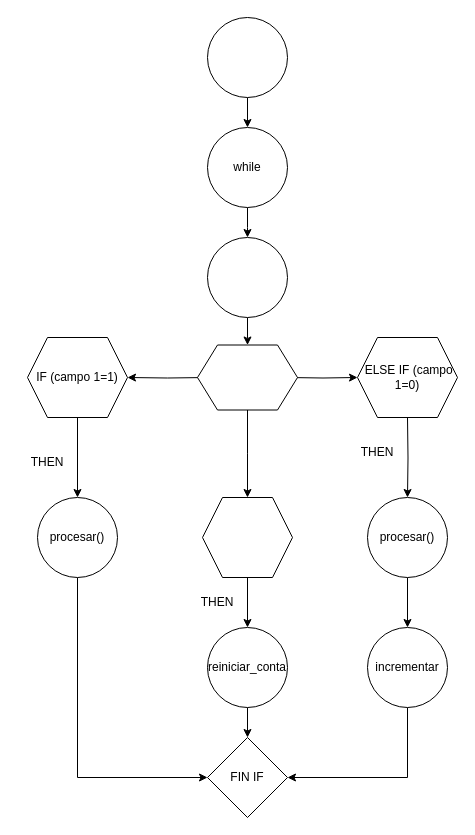
The diagram is 475 pixels wide and 835 high, and some of its shapes have lost their labels. The shapes that lost their labels are listed below. From the top down, each one's centre as x and y in pixels, then its label:
At [247,57]: "Inicio".
At [247,277]: "leer".
At [247,377]: "IF- ELSE".
At [247,537]: "ELSE".
